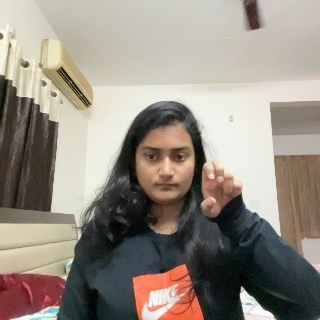Face: (136, 115, 193, 207)
No: (199, 158, 256, 243)
